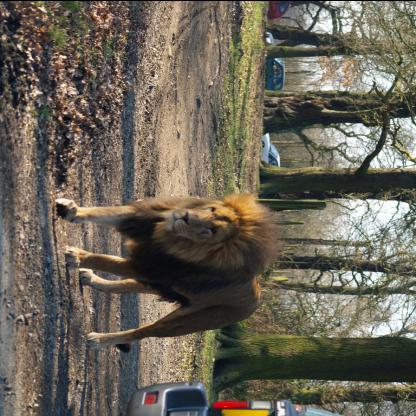lion: (132, 185, 260, 271)
